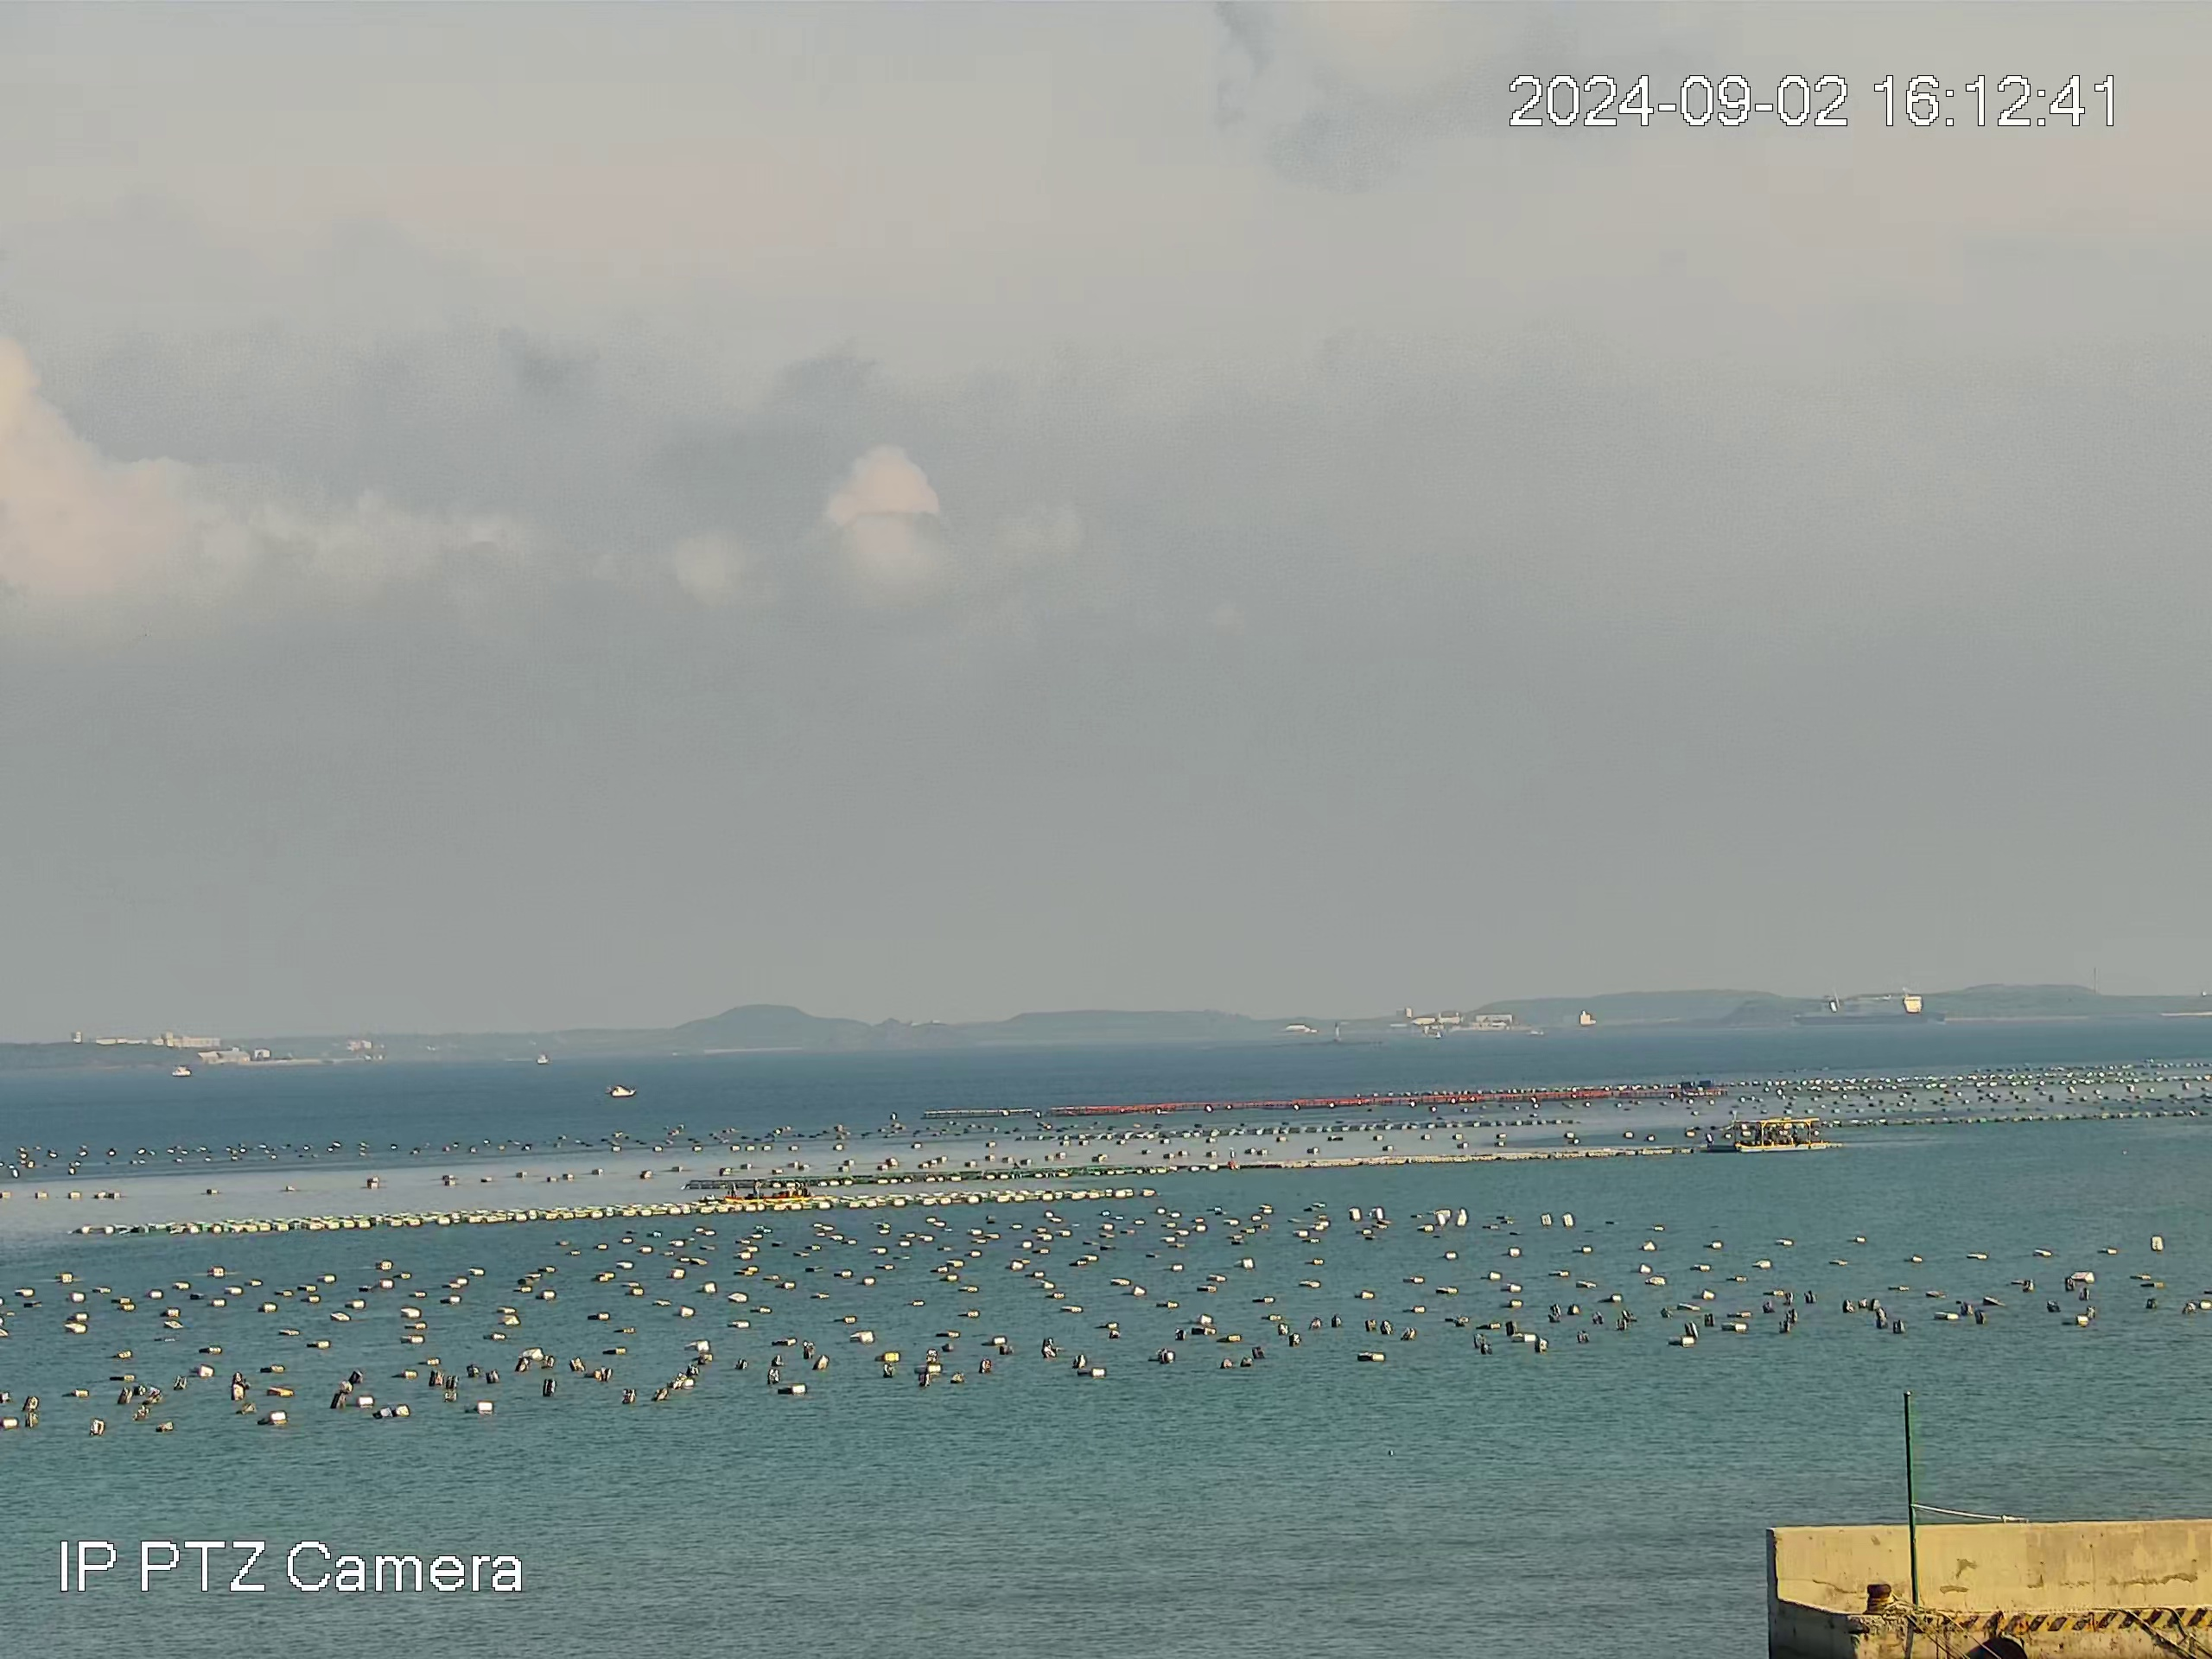boat: (1789, 992, 1948, 1027), (1732, 1116, 1830, 1154), (723, 1178, 816, 1203), (608, 1083, 636, 1098)
